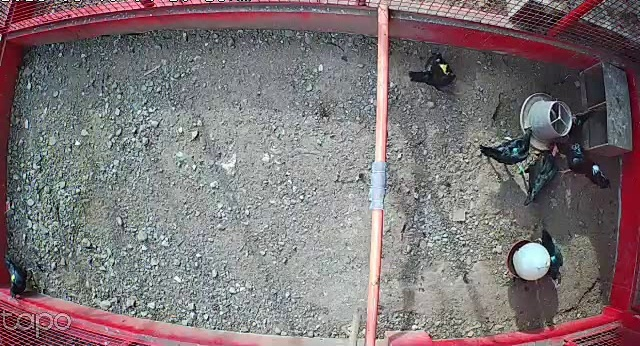Chicken: (511, 144, 564, 208), (531, 222, 570, 292), (477, 128, 535, 166), (409, 53, 459, 89), (5, 256, 38, 302), (563, 109, 596, 138)
Feeder: (519, 89, 576, 151)
Rooster: (554, 133, 614, 189)
Saddle_Color_Yellow: (438, 60, 449, 76), (11, 274, 16, 281)
